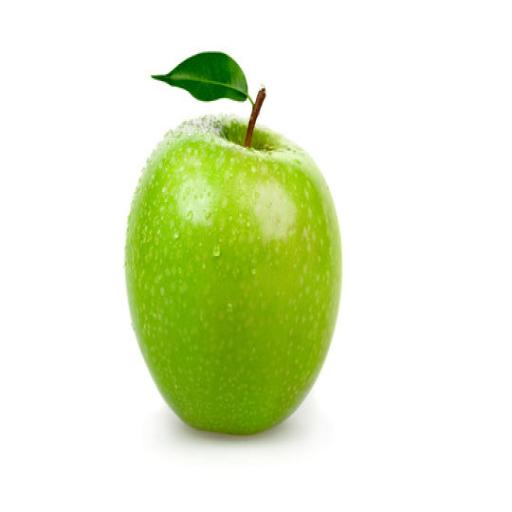Apple: (126, 117, 341, 433)
